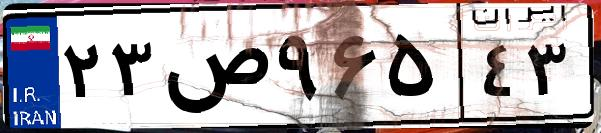2: (57, 26, 110, 100)
3: (525, 38, 570, 115), (110, 28, 158, 98)
4: (475, 38, 525, 113)
5: (385, 28, 445, 110)
6: (330, 28, 385, 110)
9: (270, 28, 330, 110)
ص: (158, 20, 270, 120)
